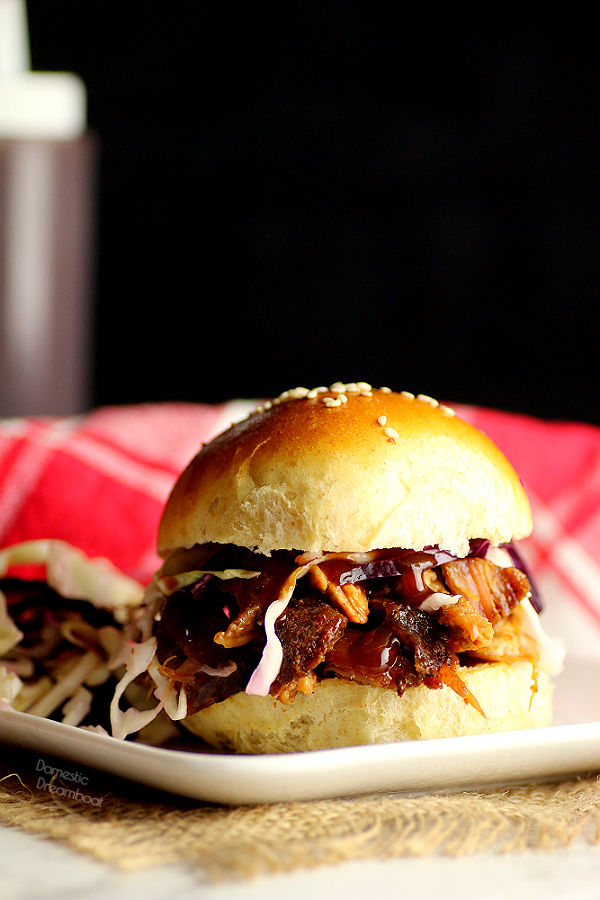hamburger_buns: (146, 362, 568, 567), (108, 600, 599, 766)
